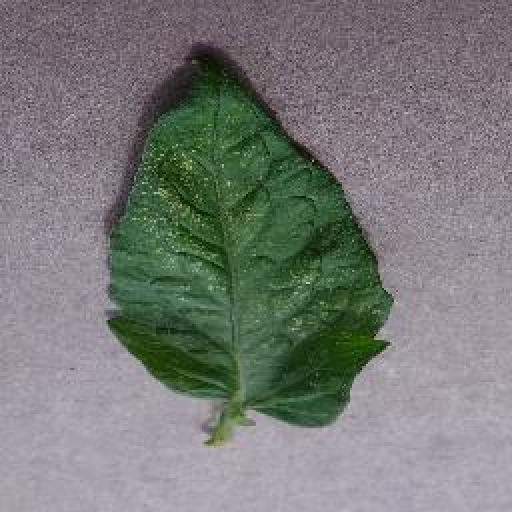Spider Mites: (103, 57, 392, 428)
